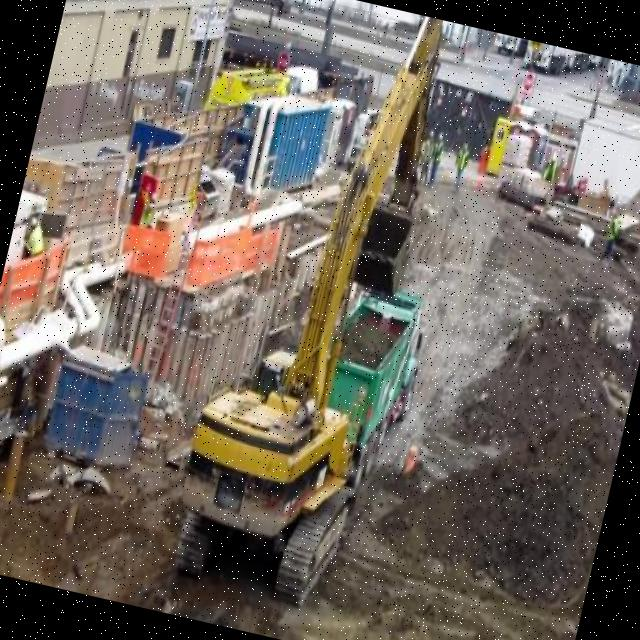Dump Truck: (300, 278, 434, 496)
Excavator: (161, 0, 464, 613)
